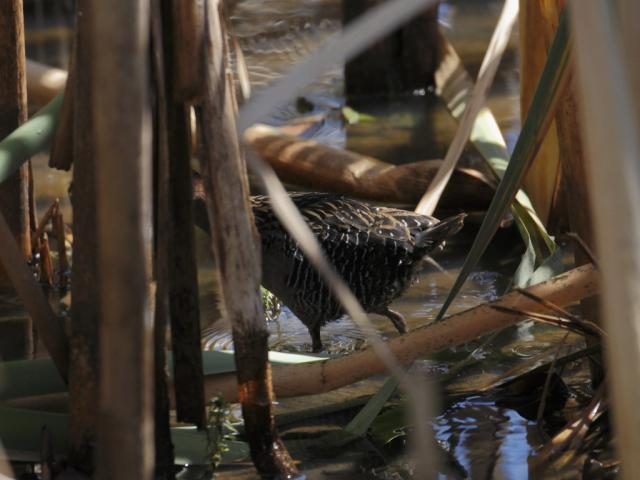Bird: (184, 191, 461, 348)
